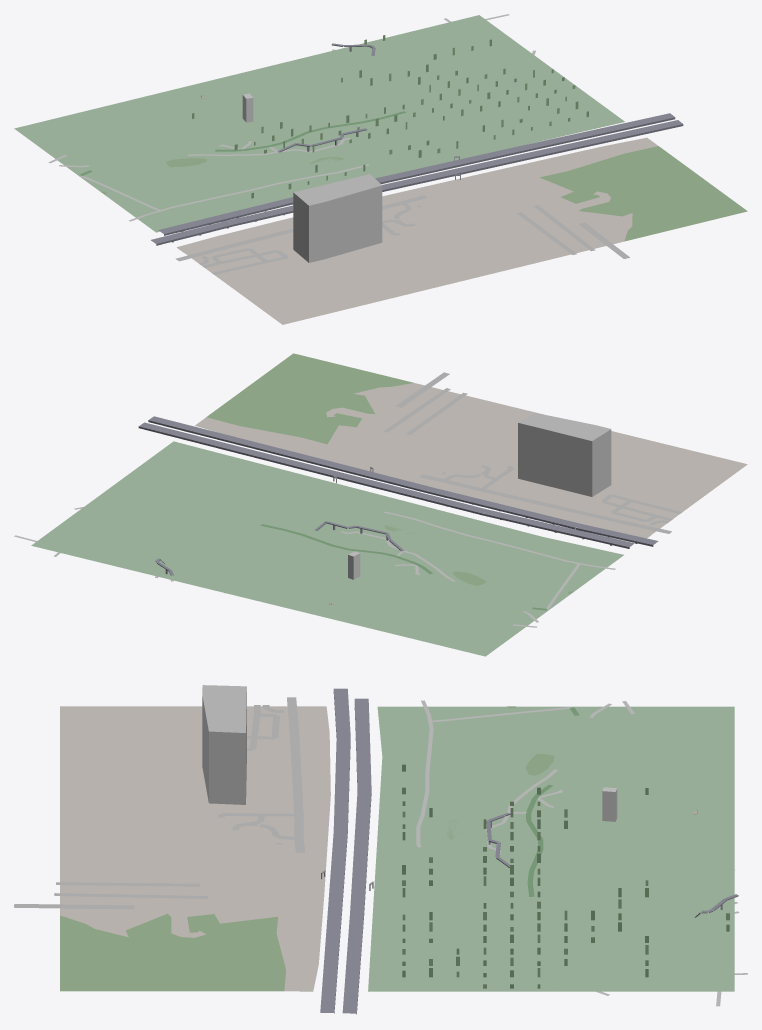
3 renders of one model, top to bottom at view 1: azimuth 30°, elevation 25°; view 2: azimuth 150°, elevation 25°; view 3: azimuth 270°, elevation 25°, orthographic. The views are drawn at different scales.
Bounding box in the file's own units: 562 × 60.17 × 544.
